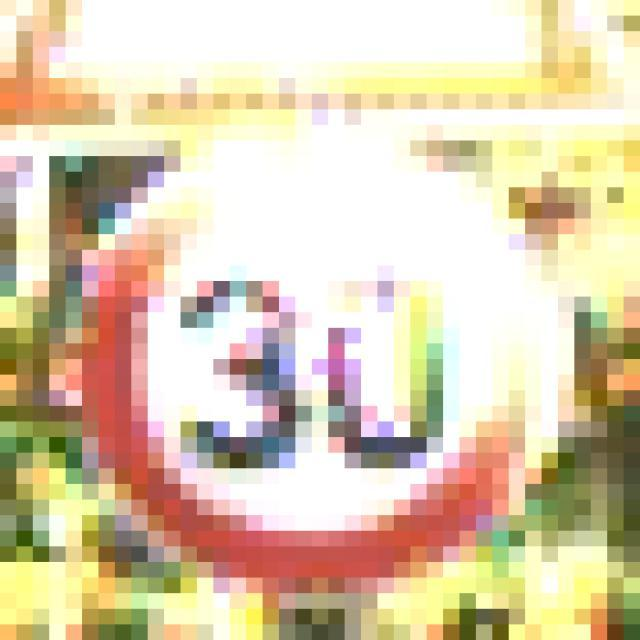Speed Limit -30-: (74, 86, 550, 538)
